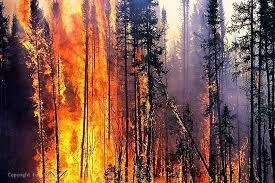fire: (23, 5, 159, 172)
